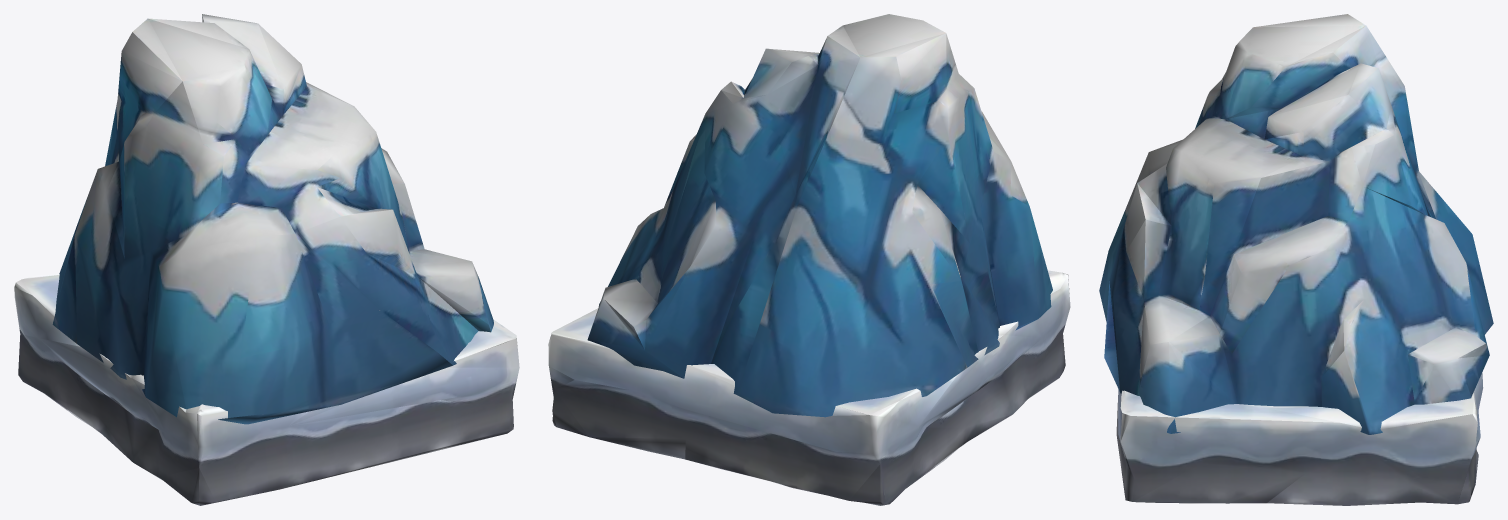
File: mtn_snowy.glb
3 renders of one model, left to right at view 1: azimuth 30°, elevation 25°; view 2: azimuth 150°, elevation 25°; view 3: azimuth 270°, elevation 25°, orthographic. The views are drawn at different scales.
Visible parts, largest first — view 1: Mesh0; view 2: Mesh0; view 3: Mesh0.
Part boxes in pixels (<box>): Mesh0: <box>14,14,519,505</box>; Mesh0: <box>548,14,1070,505</box>; Mesh0: <box>1099,14,1493,505</box>.
Bounding box in the file's own units: 1.95 × 2.09 × 2.04.
Materials: 2 (2 with a texture image).
